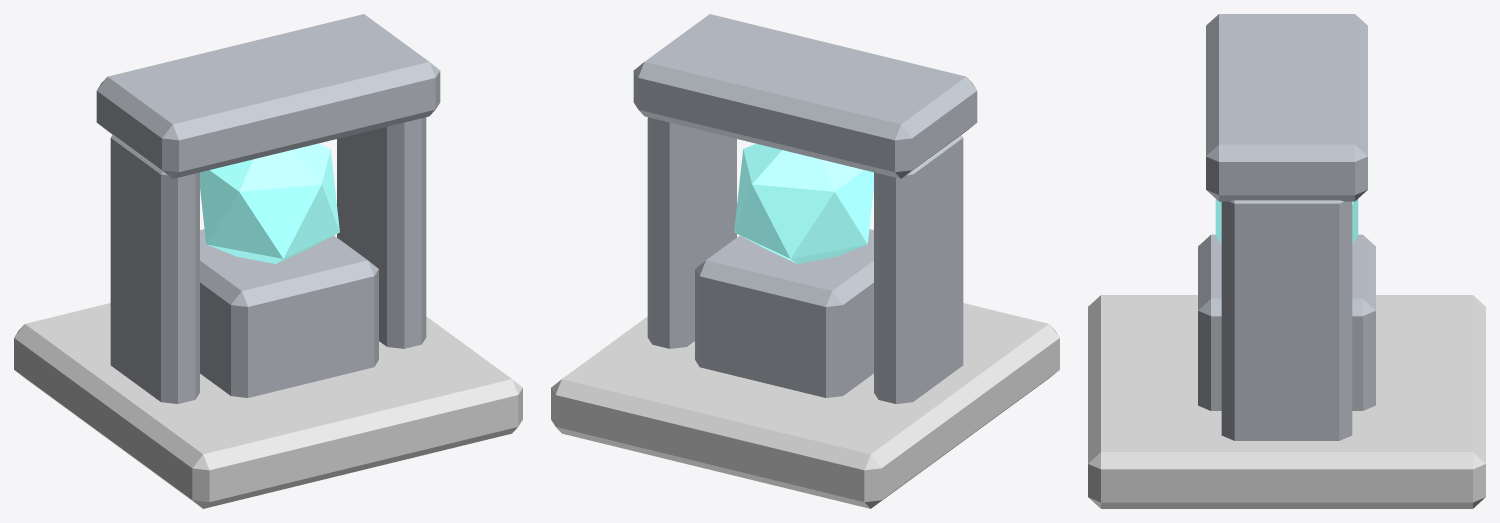
The model's file is relicario_solar.glb.
3 renders of one model, left to right at view 1: azimuth 30°, elevation 25°; view 2: azimuth 150°, elevation 25°; view 3: azimuth 270°, elevation 25°, orthographic. The views are drawn at different scales.
Parts seen in each view (by area): view 1: novo_relicario_solar; view 2: novo_relicario_solar; view 3: novo_relicario_solar.
Part boxes in pixels (box(x1,y1,x2,y2)): novo_relicario_solar: box(14, 14, 522, 508); novo_relicario_solar: box(551, 14, 1059, 508); novo_relicario_solar: box(1088, 14, 1485, 508).
Size of the model in its own units: 0.76 by 0.74 by 0.76.
